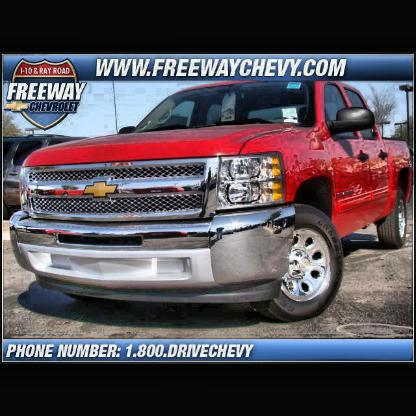Chevrolet Silverado 1500 Hybrid Crew Cab 2012: (9, 82, 416, 326)
